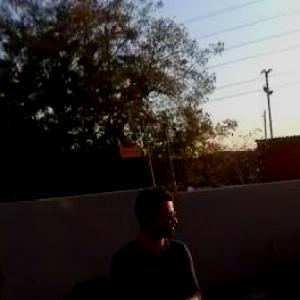follow: (105, 175, 209, 299)
